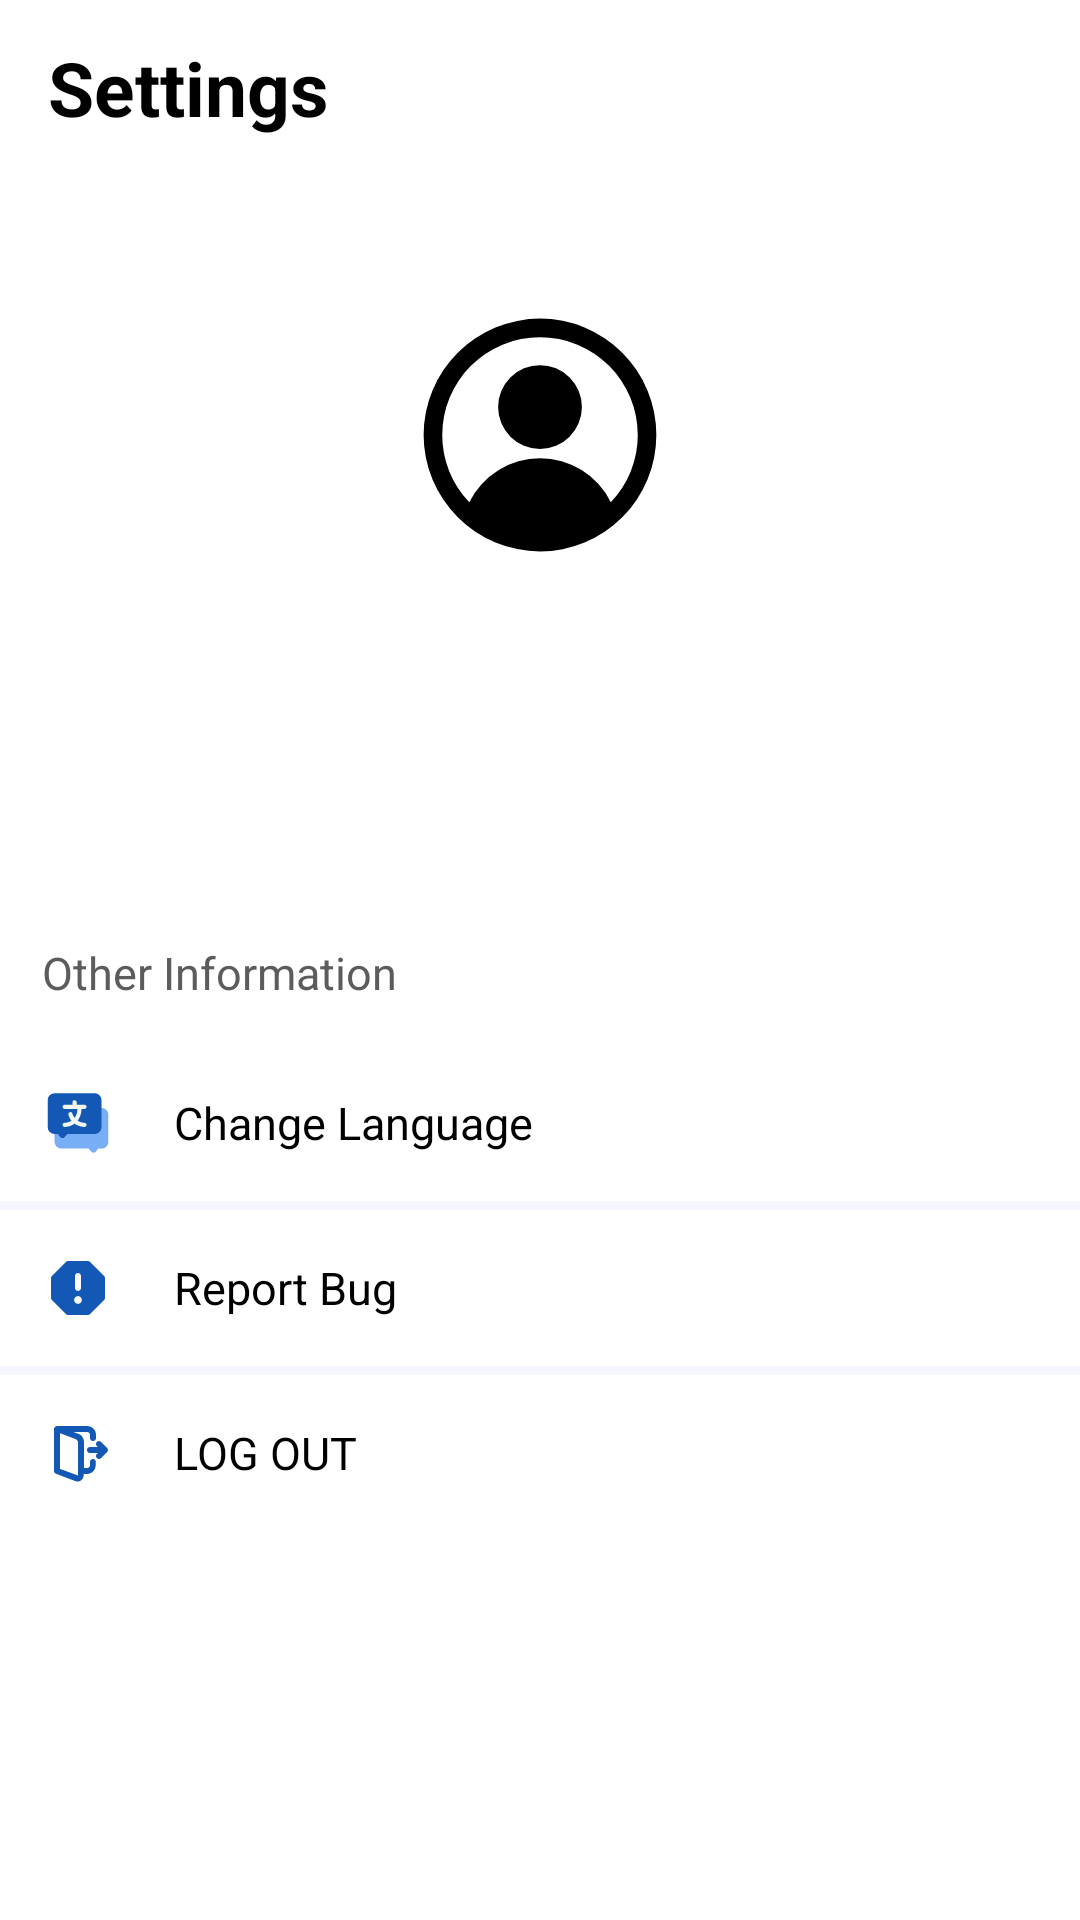

Named icons in this screenshot (1080*1920) and their bounding boxes, (x1, y1, x2, y2):
user blk: (423, 318, 657, 552)
